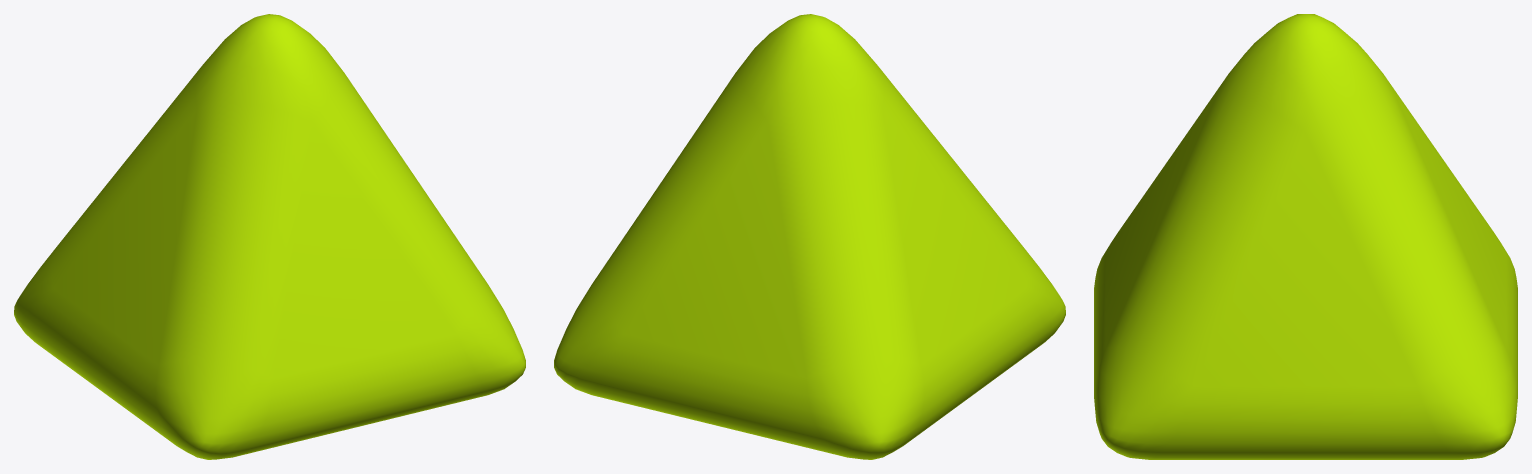
3 renders of one model, left to right at view 1: azimuth 30°, elevation 25°; view 2: azimuth 150°, elevation 25°; view 3: azimuth 270°, elevation 25°, orthographic. The views are drawn at different scales.
Parts seen in each view (by area): view 1: Plane; view 2: Plane; view 3: Plane.
Boxes of the visible parts, x1=… form: Plane: x1=14, y1=14, x2=525, y2=459; Plane: x1=554, y1=14, x2=1065, y2=459; Plane: x1=1094, y1=14, x2=1517, y2=459.
Size of the model in its own units: 410 by 392 by 410.
